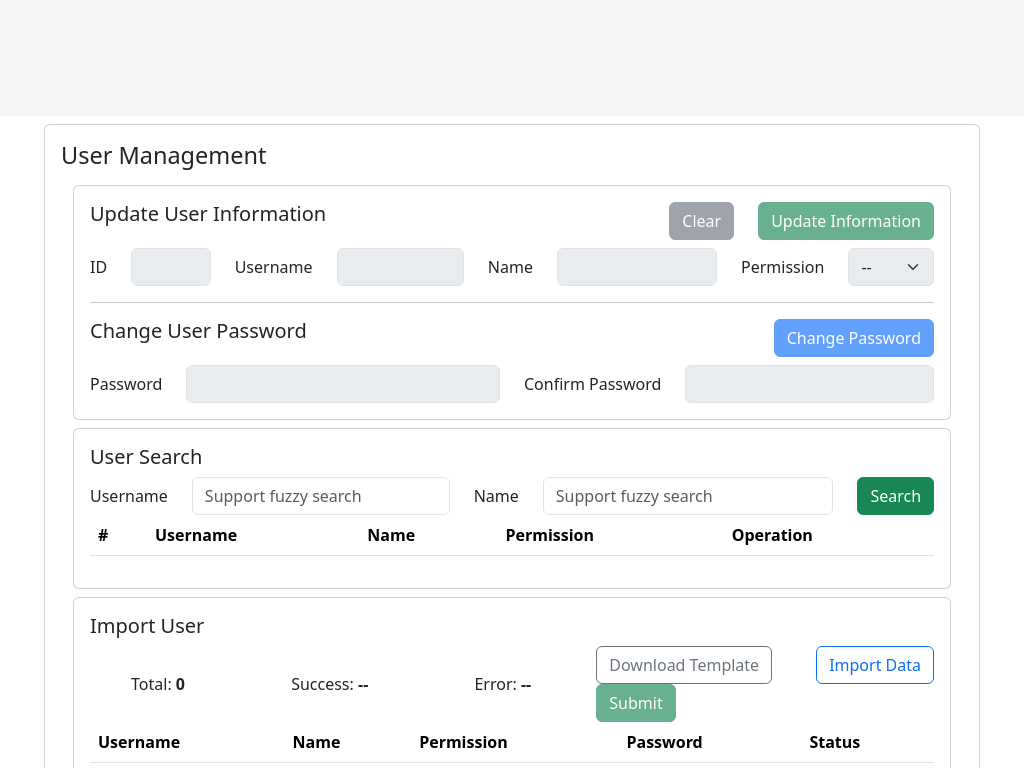
UserManage Component › handles password change error
(page scrolled)
Type "newpassword" into the password field labelled "Password" at (343, 384), box [186,365,500,403]
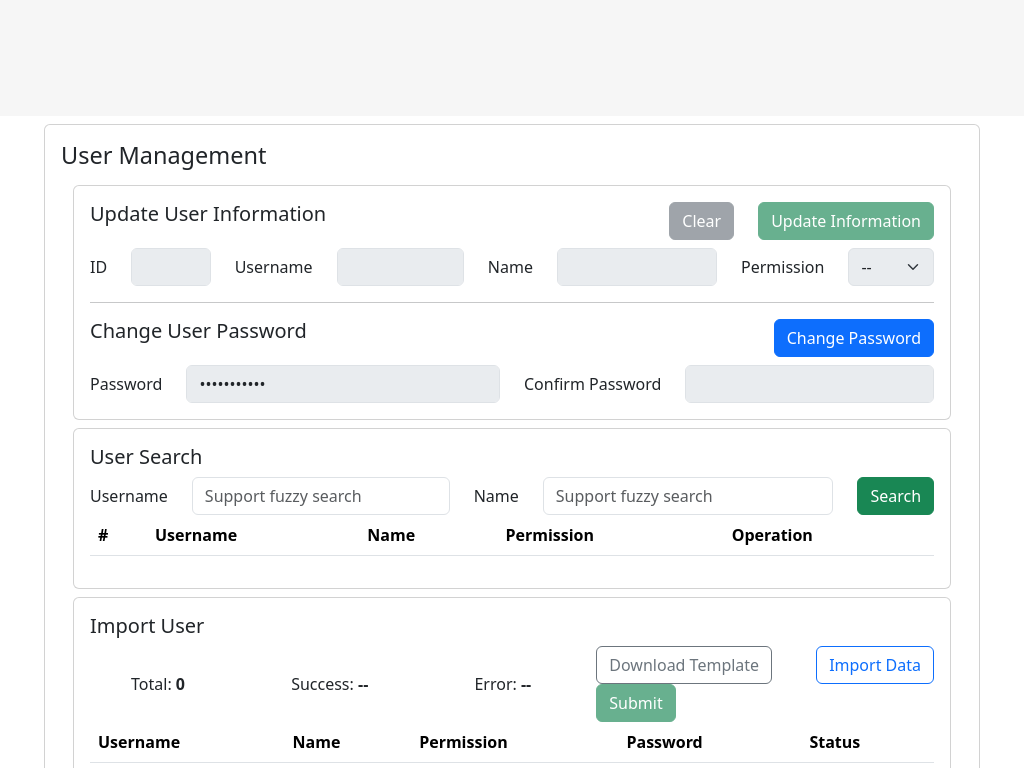
Type "newpassword" into the password field labelled "Confirm Password" at (810, 384), box [685,365,934,403]
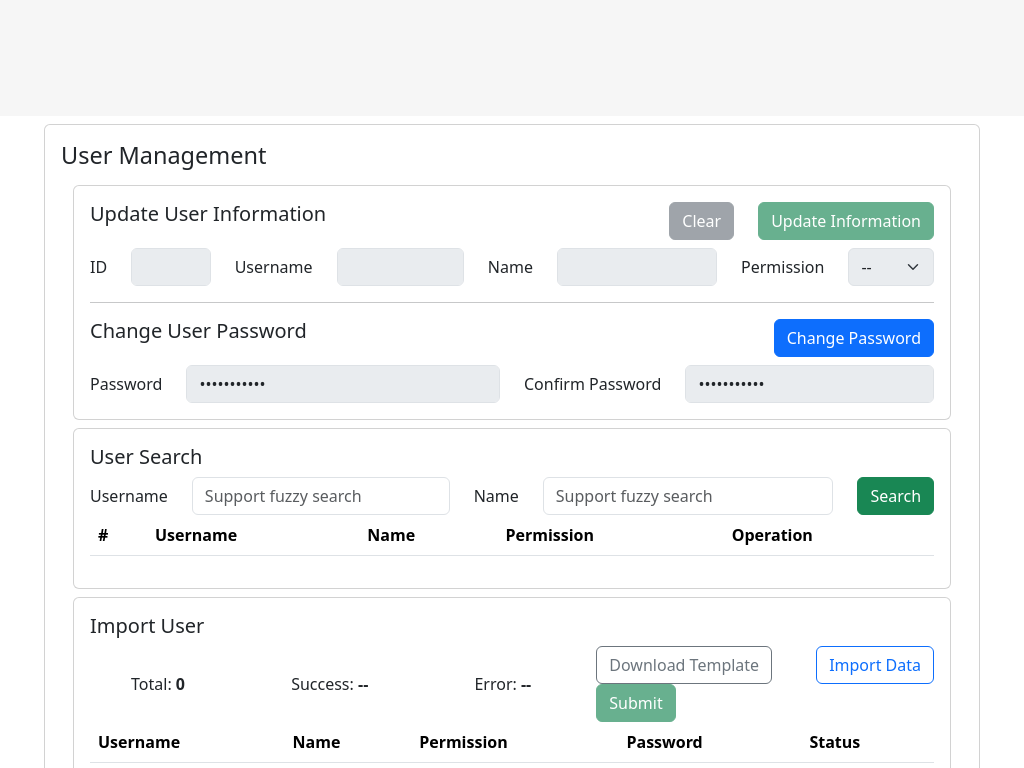
Click the button "Change Password" at (854, 338), box [774,319,934,357]
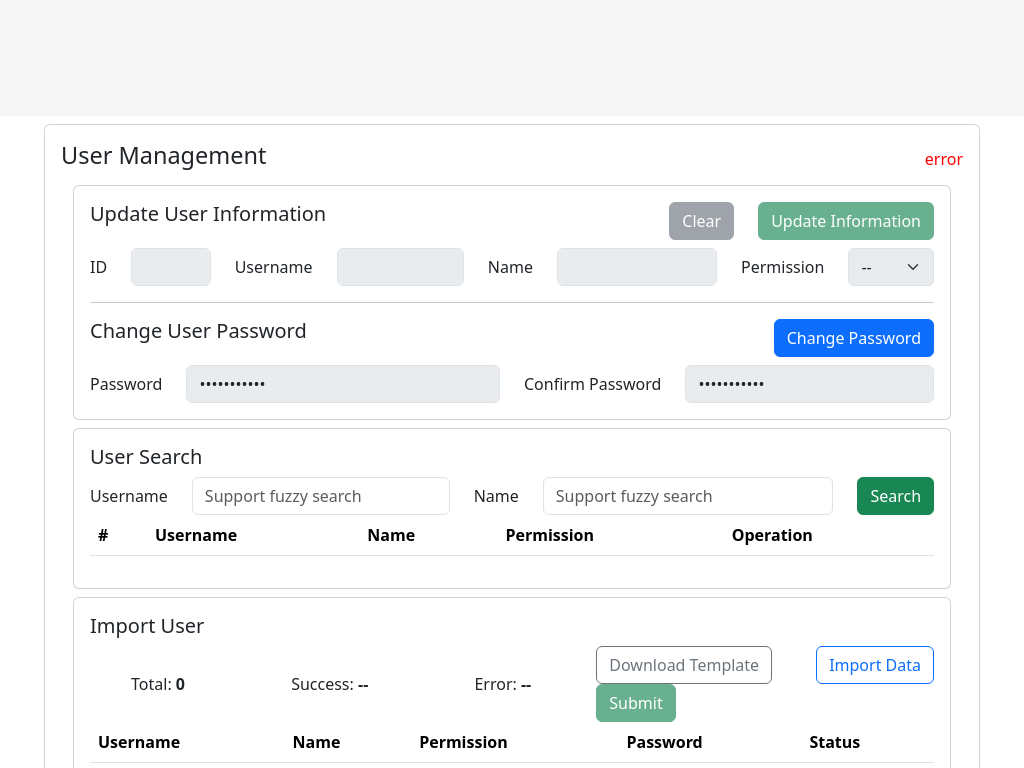
Result: the text "error" is shown at [925,147,963,171]
